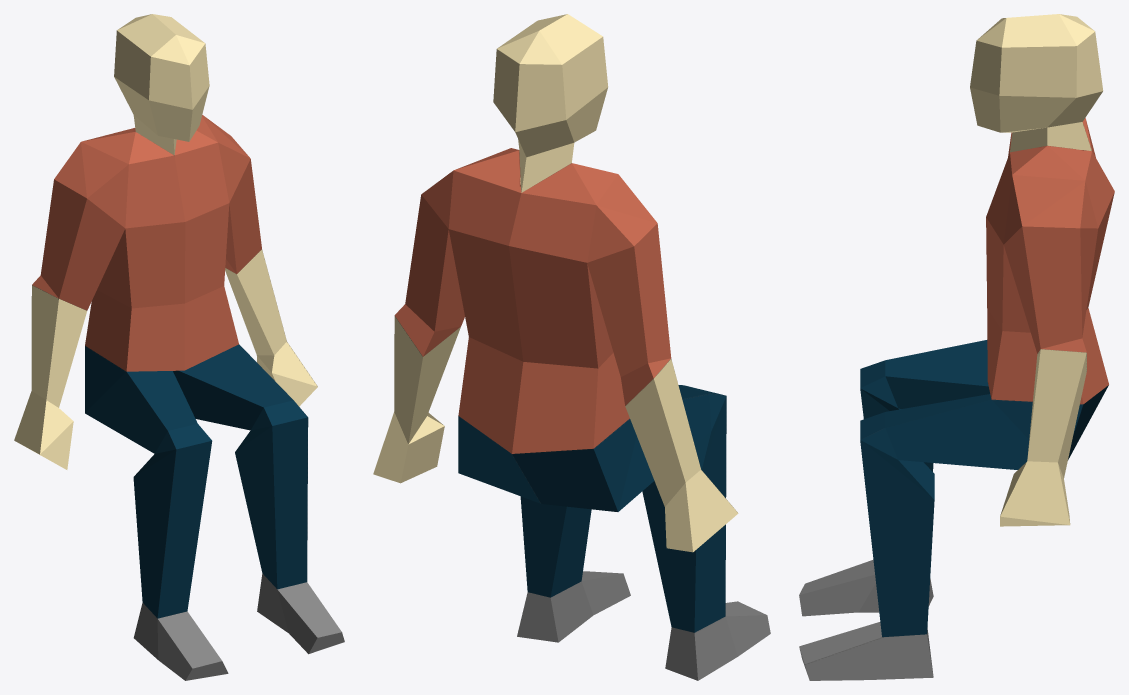
The model's file is human_sitting.obj.
3 renders of one model, left to right at view 1: azimuth 30°, elevation 25°; view 2: azimuth 150°, elevation 25°; view 3: azimuth 270°, elevation 25°, orthographic. The views are drawn at different scales.
Parts seen in each view (by area): view 1: HumanLow_Cube; view 2: HumanLow_Cube; view 3: HumanLow_Cube.
Boxes of the visible parts, <box> form: HumanLow_Cube: <box>14,14,344,680</box>; HumanLow_Cube: <box>373,14,770,680</box>; HumanLow_Cube: <box>799,14,1114,680</box>.
Bounding box in the file's own units: 1.61 × 3.13 × 1.44.
